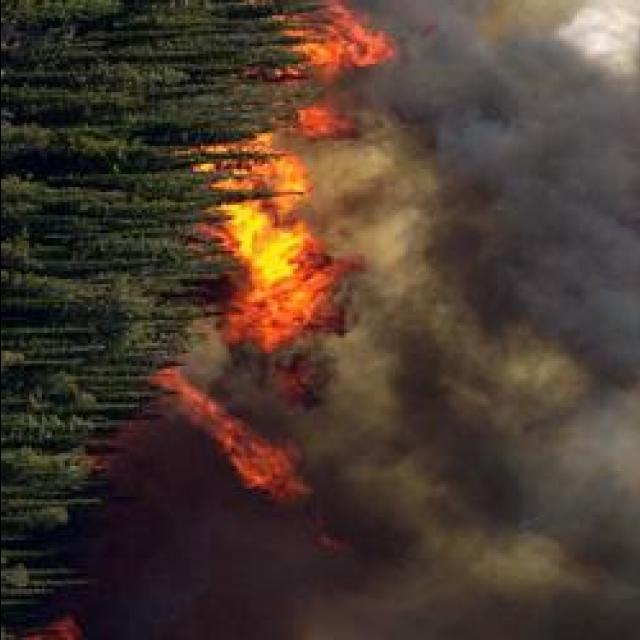fire: (229, 196, 309, 338), (225, 205, 305, 278), (298, 5, 370, 69), (227, 442, 297, 498)
smoke: (360, 139, 640, 417), (384, 371, 558, 561), (408, 10, 608, 146), (118, 522, 300, 640), (525, 450, 640, 636), (353, 522, 511, 634), (320, 152, 426, 270)
